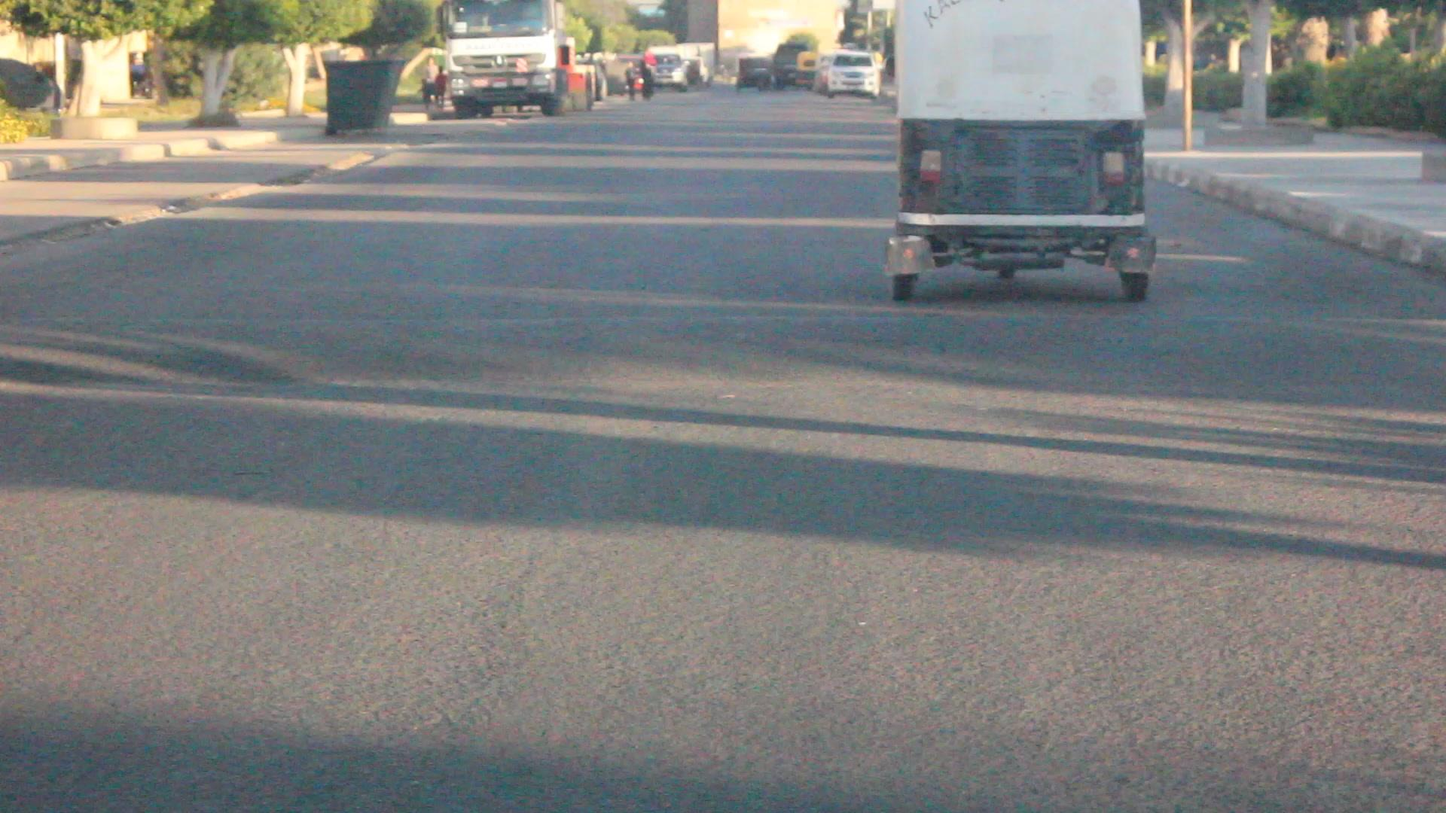Bump: (8, 305, 1446, 399)
